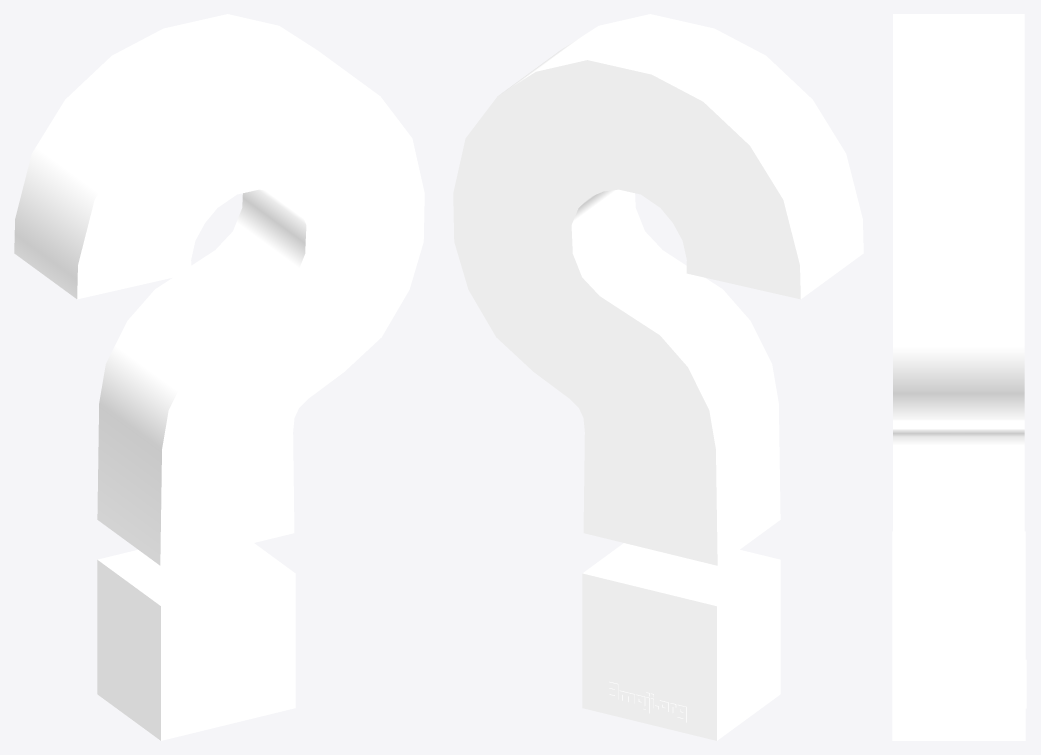
Rendered from white_question_mark.glb.
3 renders of one model, left to right at view 1: azimuth 30°, elevation 25°; view 2: azimuth 150°, elevation 25°; view 3: azimuth 270°, elevation 25°, orthographic. The views are drawn at different scales.
Parts seen in each view (by area): view 1: Cube.6447; view 2: Cube.6447; view 3: Cube.6447.
Part boxes in pixels (x1,y1,x2,y2): Cube.6447: (14, 14, 424, 740); Cube.6447: (453, 14, 863, 740); Cube.6447: (892, 14, 1026, 740).
Size of the model in its own units: 1.19 by 2.12 by 0.3796.
Materials: 1 (1 with a texture image).
